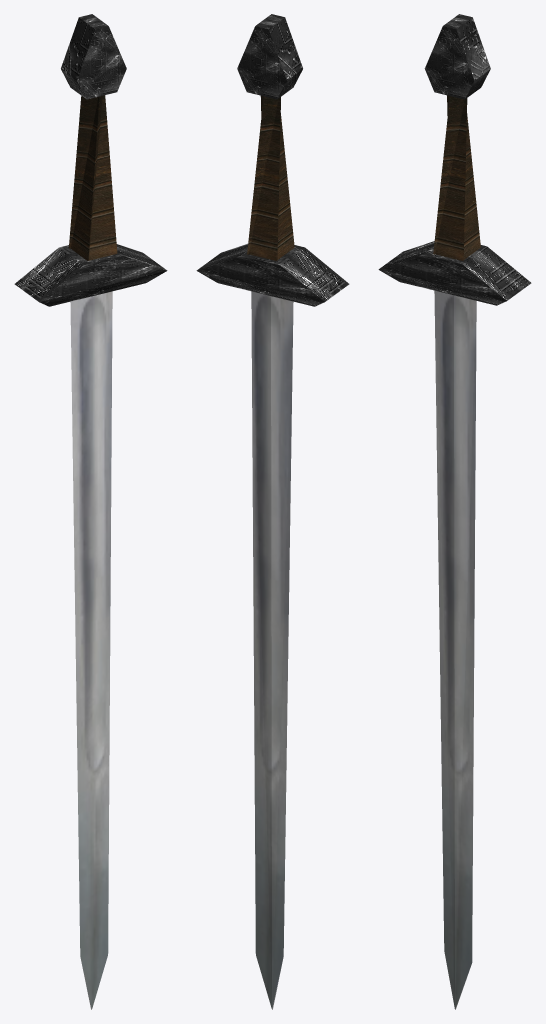
File: Dagger2.fbx
3 views of the same model, side by side, from view 1: azimuth 30°, elevation 25°; view 2: azimuth 150°, elevation 25°; view 3: azimuth 330°, elevation 25° (orthographic).
Parts seen in each view (by area): view 1: Mesh1; view 2: Mesh1; view 3: Mesh1.
Part boxes in pixels (x1,y1,x2,y2): Mesh1: [14, 14, 167, 1009]; Mesh1: [196, 14, 349, 1009]; Mesh1: [378, 14, 531, 1009].
Size of the model in its own units: 2.59 by 18.99 by 0.8565.
